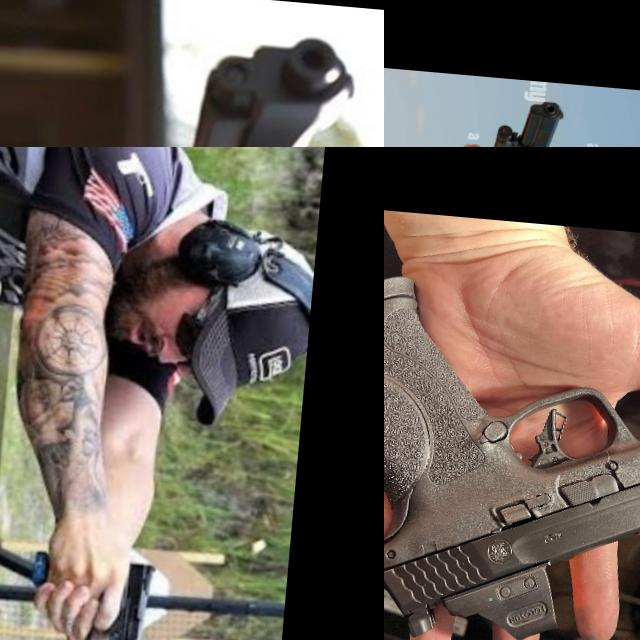handgun: (384, 261, 640, 640), (133, 19, 364, 147), (73, 548, 160, 640), (478, 92, 571, 147)
